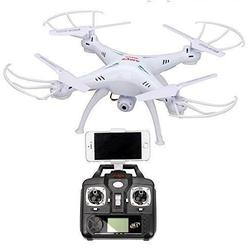drone: (3, 10, 250, 147)
